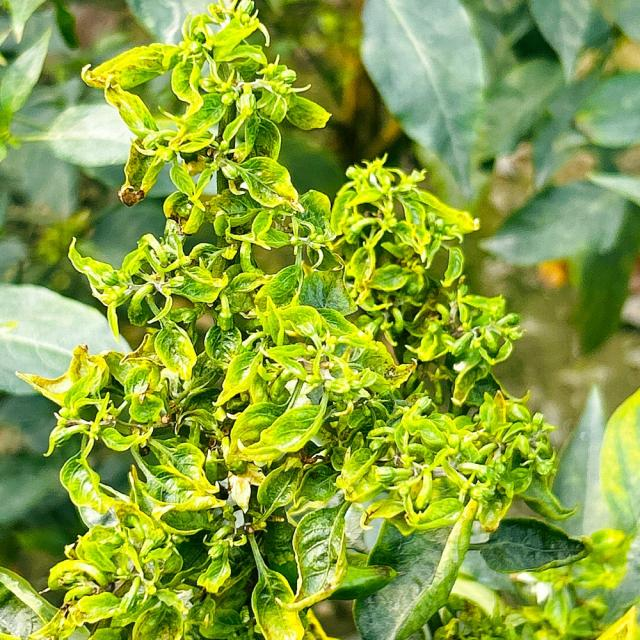Chilli_Leaf_Curl: (8, 1, 588, 638), (80, 0, 332, 220)
